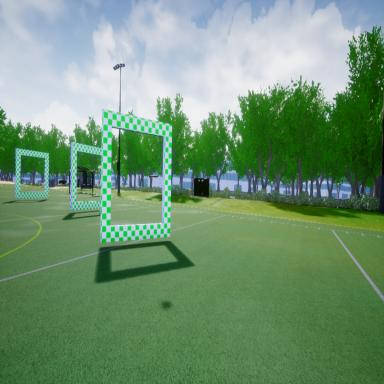gate: (99, 104, 176, 247), (67, 139, 107, 214), (16, 143, 50, 205)
